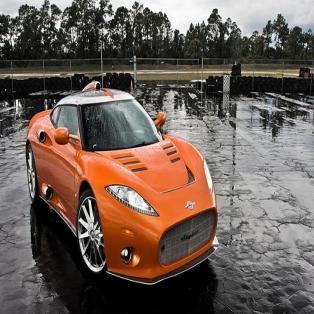Auto: (24, 78, 221, 292)
